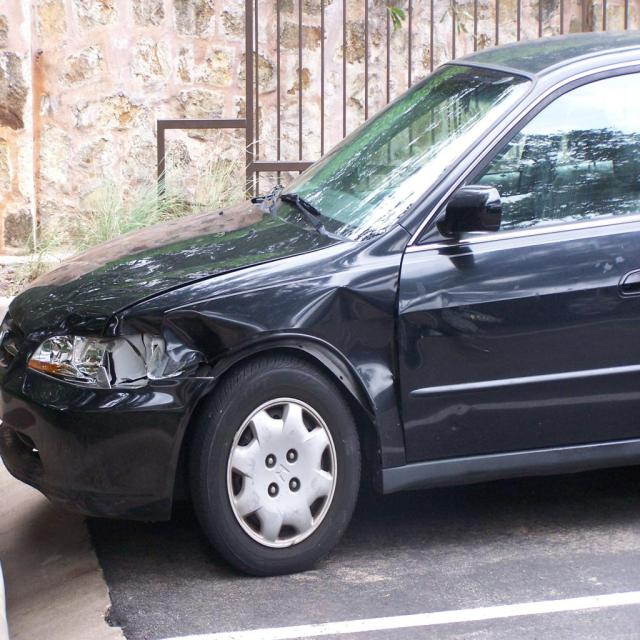Damage: (22, 269, 524, 526)
